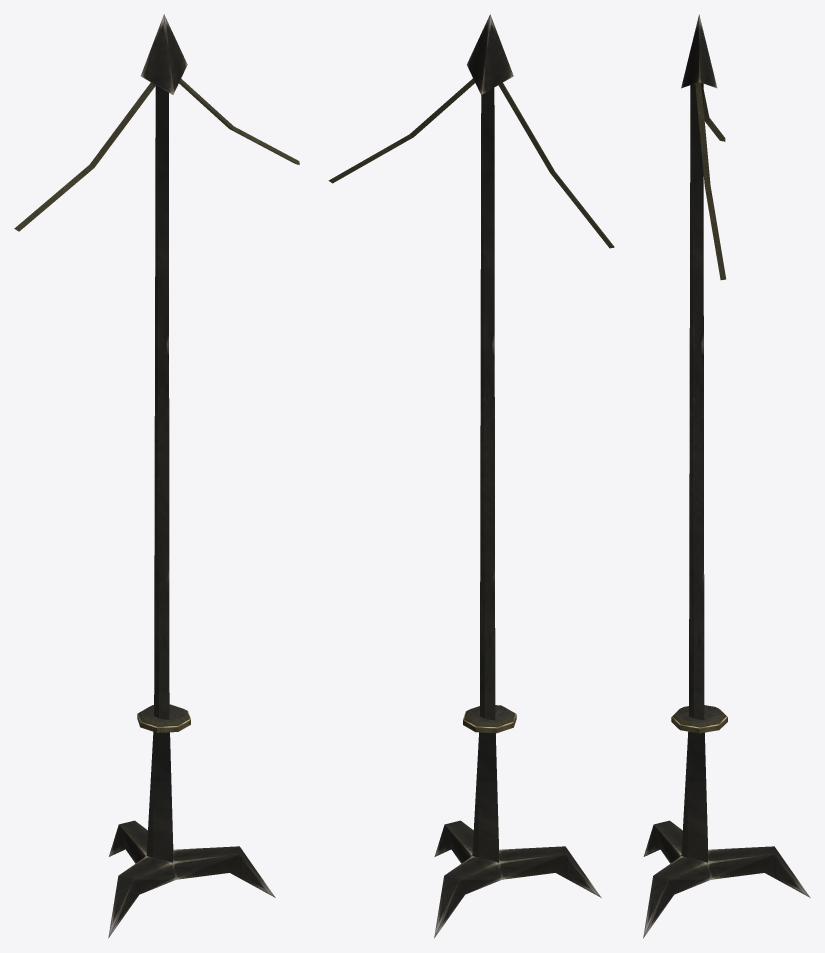
The model's file is flag_stand.FBX.
3 views of the same model, side by side, from view 1: azimuth 30°, elevation 25°; view 2: azimuth 150°, elevation 25°; view 3: azimuth 270°, elevation 25° (orthographic).
Visible parts, largest first — view 1: flag_stand; view 2: flag_stand; view 3: flag_stand.
Boxes of the visible parts, left/top/right/bottom form: flag_stand: left=14, top=14, right=299, bottom=938; flag_stand: left=328, top=14, right=614, bottom=938; flag_stand: left=643, top=14, right=810, bottom=938.
Bounding box in the file's own units: 1.44 × 4.25 × 0.7315.
